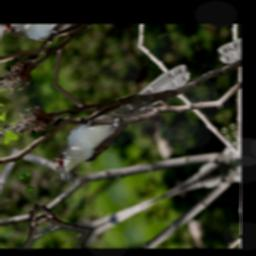Cuckoo: (37, 61, 207, 188)
